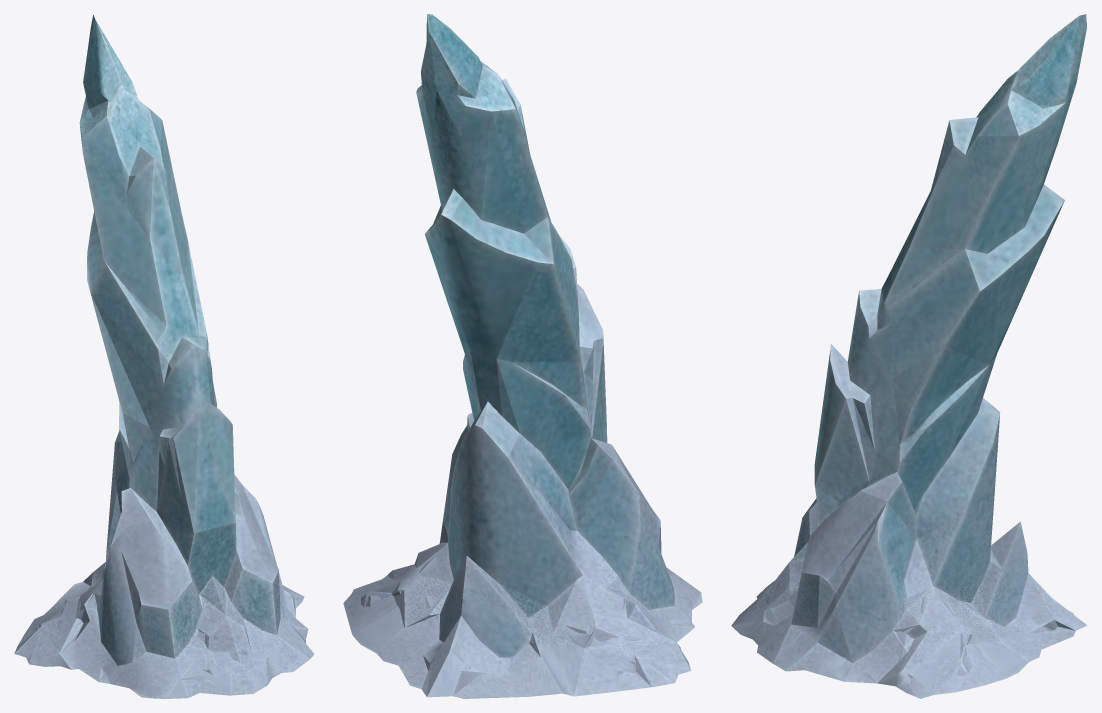
Rendered from ice_spire.glb.
3 renders of one model, left to right at view 1: azimuth 30°, elevation 25°; view 2: azimuth 150°, elevation 25°; view 3: azimuth 270°, elevation 25°, orthographic. The views are drawn at different scales.
Parts seen in each view (by area): view 1: Mesh_0; view 2: Mesh_0; view 3: Mesh_0.
Boxes of the visible parts, x1,y1,x2,y2 form: Mesh_0: (14,14,314,698); Mesh_0: (343,14,702,698); Mesh_0: (731,14,1087,698).
Size of the model in its own units: 0.9803 by 1.9 by 1.
Materials: 1 (1 with a texture image).
